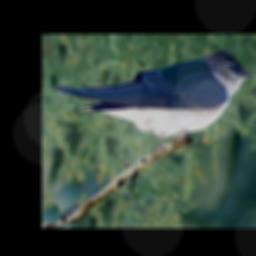Swallow: (51, 49, 256, 155)
